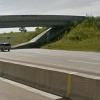Bridge: (1, 8, 70, 33)
